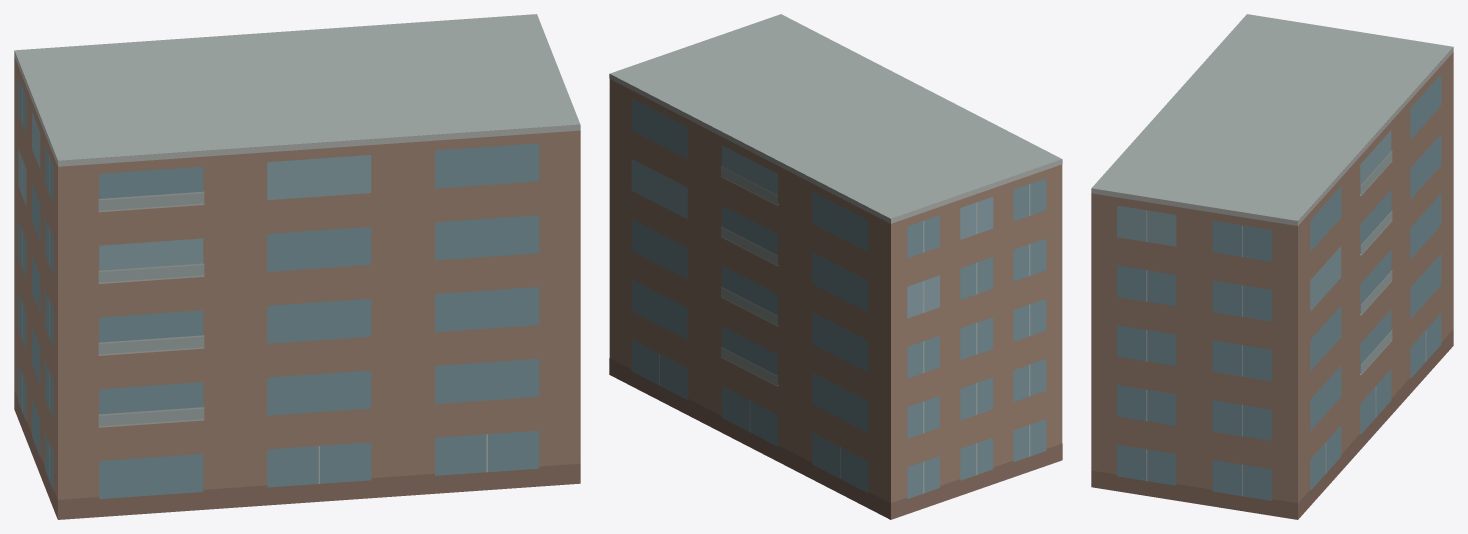
File: survey-upis-32941808.glb
3 renders of one model, left to right at view 1: azimuth 30°, elevation 25°; view 2: azimuth 150°, elevation 25°; view 3: azimuth 270°, elevation 25°, orthographic. The views are drawn at different scales.
Visible parts, largest first — view 1: survey-upis-32941808.tmp; view 2: survey-upis-32941808.tmp; view 3: survey-upis-32941808.tmp.
Boxes of the visible parts, left/top/right/bottom form: survey-upis-32941808.tmp: left=14, top=14, right=580, bottom=519; survey-upis-32941808.tmp: left=609, top=14, right=1062, bottom=519; survey-upis-32941808.tmp: left=1091, top=14, right=1453, bottom=519.
Bounding box in the file's own units: 21.55 × 14.5 × 15.94.
